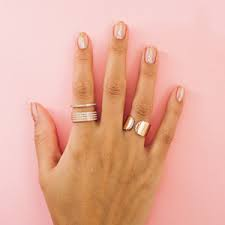hand: (15, 17, 196, 221)
